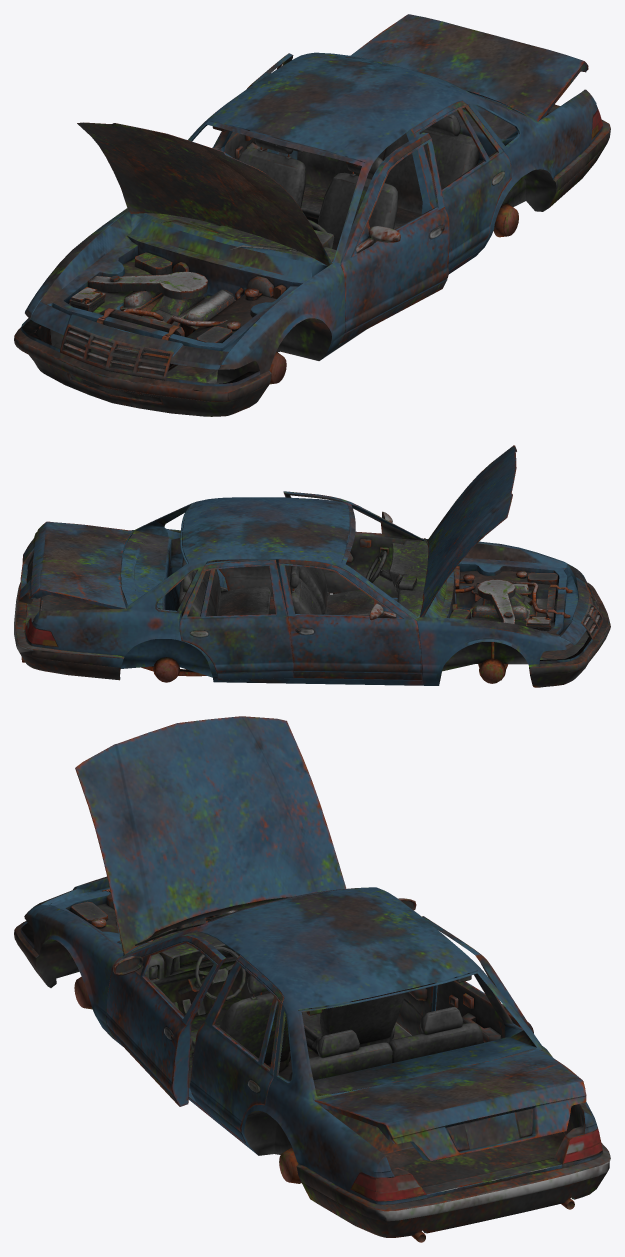
File: abandoned_generic_sedan_2_-_game_ready.glb
3 views of the same model, one above another, from view 1: azimuth 30°, elevation 25°; view 2: azimuth 150°, elevation 25°; view 3: azimuth 270°, elevation 25° (orthographic). The views are drawn at different scales.
Visible parts, largest first — view 1: Bottom_0, Hood_3, Trunkdoor_4, Door_FR_inner.001_13, Seats_9, Bumper_front_inner_12, Engine_6, Door_RR.001_14, Dashboard_7, Bumper_rear_1, SUSPENSION_5, Door_RR_11; view 2: Bottom_0, Door_FR_inner_10, Door_RR_11, Trunkdoor_4, Hood_3, Seats_9, Engine_6, Door_FR_inner.001_13, Bumper_rear_1, Dashboard_7, Bumper_front_inner_12, SUSPENSION_5 (+2 smaller); view 3: Bottom_0, Hood_3, Trunkdoor_4, Seats_9, Bumper_rear_1, Door_FR_inner.001_13, Door_RR.001_14, Door_RR_11, Dashboard_7, Stoplights_glass_2, Door_FR_inner_10, SUSPENSION_5 (+2 smaller).
Boxes of the visible parts, x1,y1,x2,y2 form: Bottom_0: (21,52,602,386); Hood_3: (77,122,332,266); Trunkdoor_4: (350,14,588,121); Door_FR_inner.001_13: (339,132,449,343); Seats_9: (238,114,479,250); Bumper_front_inner_12: (14,320,271,416); Engine_6: (69,252,286,342); Door_RR.001_14: (410,101,511,270); Dashboard_7: (144,213,336,261); Bumper_rear_1: (549,104,610,207); SUSPENSION_5: (168,203,518,384); Door_RR_11: (224,53,293,159); Bottom_0: (25,497,603,685); Door_FR_inner_10: (278,559,422,679); Door_RR_11: (179,559,293,680); Trunkdoor_4: (18,521,132,608); Hood_3: (420,445,516,617); Seats_9: (179,557,374,616); Engine_6: (449,566,557,631); Door_FR_inner.001_13: (283,491,423,597); Bumper_rear_1: (14,583,124,680); Dashboard_7: (380,540,428,616); Bumper_front_inner_12: (528,582,610,687); SUSPENSION_5: (21,598,508,683); Bottom_0: (20,876,602,1233); Hood_3: (75,716,346,954); Trunkdoor_4: (314,1050,586,1161); Seats_9: (190,975,483,1080); Bumper_rear_1: (296,1143,610,1237); Door_FR_inner.001_13: (106,935,226,1106); Door_RR.001_14: (190,955,285,1142); Door_RR_11: (421,916,533,1042); Dashboard_7: (129,926,262,1015); Stoplights_glass_2: (350,1126,602,1201); Door_FR_inner_10: (396,898,433,1035); SUSPENSION_5: (74,976,574,1242).
Size of the model in its own units: 50.7 by 17.74 by 37.08.
1 material, 1 textured.
